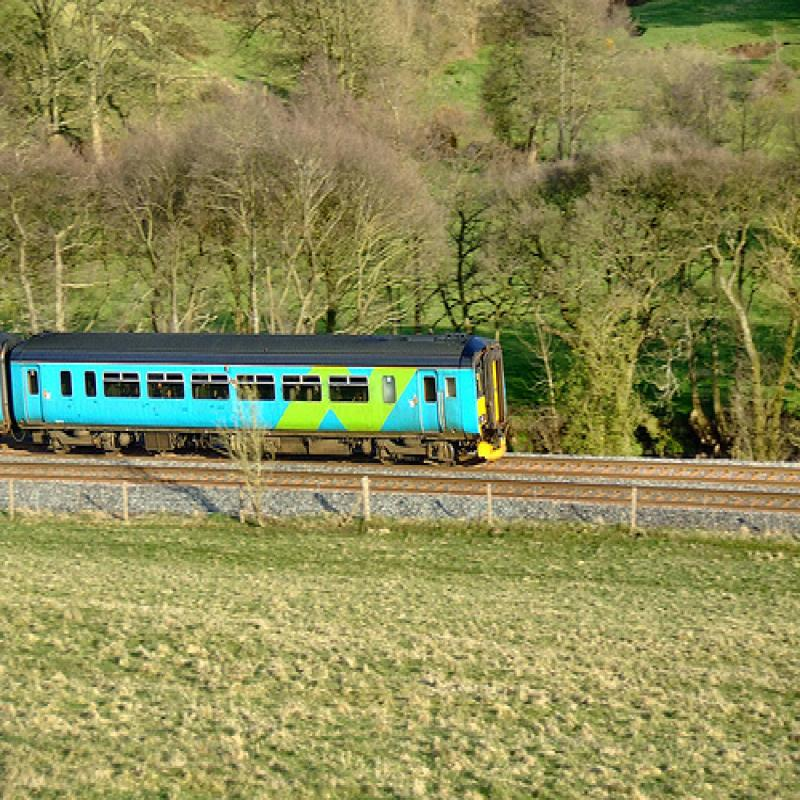train: (3, 319, 518, 470)
